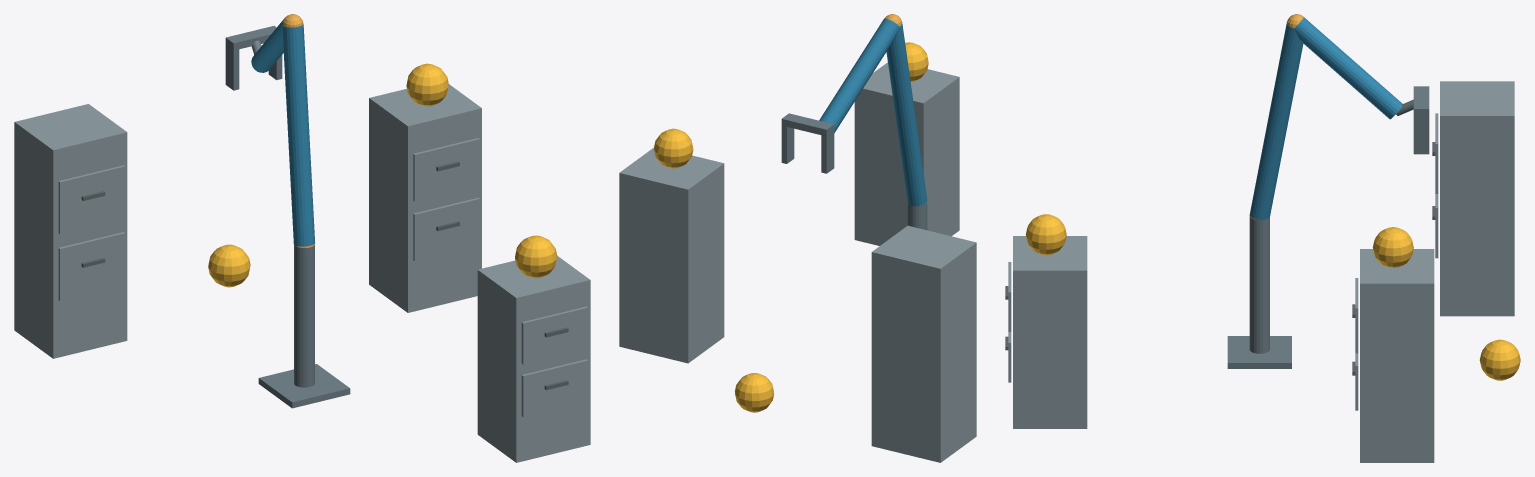
3 views of the same model, side by side, from view 1: azimuth 30°, elevation 25°; view 2: azimuth 150°, elevation 25°; view 3: azimuth 270°, elevation 25° (orthographic). The views are drawn at different scales.
Parts seen in each view (by area): view 1: cabinet_3 body, cabinet_2 body, cabinet_1 body, moving link 1, cabinet_3 drawer front.001, cabinet_3 drawer front, cabinet_2 drawer front, cabinet_2 drawer front.001, fixed post, cabinet_1 drawer front.001, cabinet_1 drawer front, pedestal (+6 smaller); view 2: cabinet_3 body, cabinet_2 body, cabinet_1 body, moving link 1, moving link 2, released ball_2, ball ball_3, gripper bridge, released ball_1, gripper finger -1, gripper finger 1, fixed post; view 3: cabinet_3 body, cabinet_2 body, cabinet_1 body, moving link 1, fixed post, moving link 2, pedestal, released ball_1, ball ball_3, released ball_2, gripper finger 1.
Part boxes in pixels (left/top/right/bottom): cabinet_3 body: left=14, top=104, right=127, bottom=358; cabinet_2 body: left=369, top=84, right=481, bottom=312; cabinet_1 body: left=477, top=256, right=590, bottom=462; moving link 1: left=282, top=24, right=314, bottom=246; cabinet_3 drawer front.001: left=58, top=165, right=125, bottom=234; cabinet_3 drawer front: left=58, top=232, right=125, bottom=300; cabinet_2 drawer front: left=413, top=197, right=479, bottom=261; cabinet_2 drawer front.001: left=413, top=138, right=479, bottom=201; fixed post: left=294, top=245, right=314, bottom=387; cabinet_1 drawer front.001: left=521, top=306, right=588, bottom=364; cabinet_1 drawer front: left=521, top=359, right=588, bottom=417; pedestal: left=258, top=364, right=350, bottom=408; cabinet_3 body: left=871, top=225, right=976, bottom=462; cabinet_2 body: left=619, top=147, right=724, bottom=363; cabinet_1 body: left=854, top=62, right=959, bottom=245; moving link 1: left=886, top=22, right=927, bottom=206; moving link 2: left=819, top=18, right=899, bottom=132; released ball_2: left=654, top=128, right=693, bottom=168; ball ball_3: left=734, top=373, right=774, bottom=412; gripper bridge: left=781, top=113, right=834, bottom=136; released ball_1: left=905, top=42, right=928, bottom=81; gripper finger -1: left=821, top=131, right=834, bottom=173; gripper finger 1: left=781, top=125, right=794, bottom=163; fixed post: left=907, top=202, right=927, bottom=230; cabinet_3 body: left=1440, top=81, right=1514, bottom=316; cabinet_2 body: left=1360, top=249, right=1434, bottom=462; cabinet_1 body: left=1013, top=236, right=1087, bottom=428; moving link 1: left=1249, top=22, right=1303, bottom=220; fixed post: left=1249, top=216, right=1269, bottom=353; moving link 2: left=1294, top=17, right=1402, bottom=119; pedestal: left=1227, top=336, right=1291, bottom=368; released ball_1: left=1025, top=214, right=1066, bottom=255; ball ball_3: left=1479, top=339, right=1520, bottom=380; released ball_2: left=1372, top=227, right=1413, bottom=267; gripper finger 1: left=1413, top=116, right=1429, bottom=154.
Bounding box in the file's own units: 1.67 × 1.48 × 2.01.
